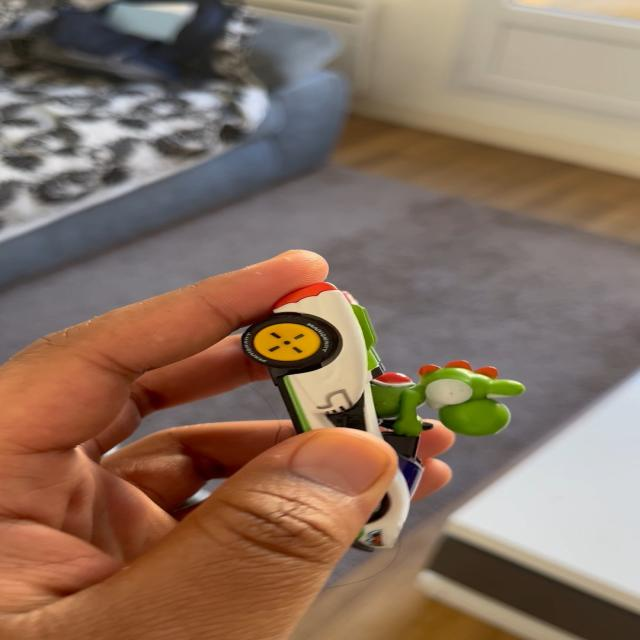yoshi: (241, 277, 545, 564)
